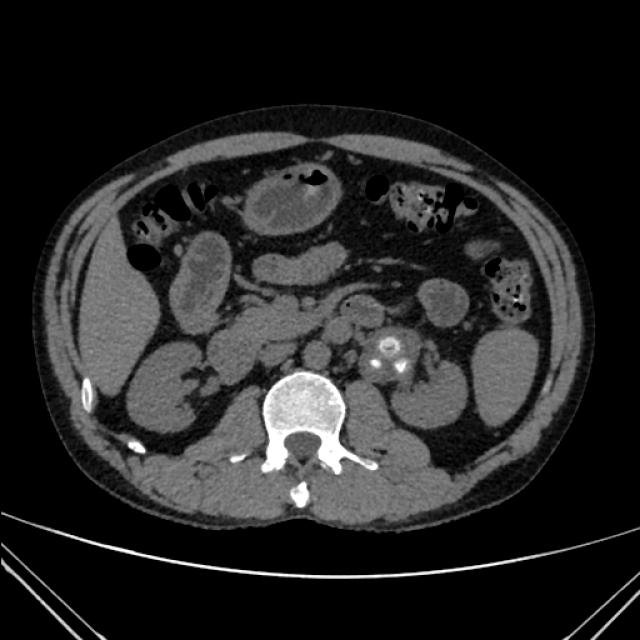kidneystone: (380, 336, 400, 356), (395, 360, 409, 373), (370, 359, 381, 369)
